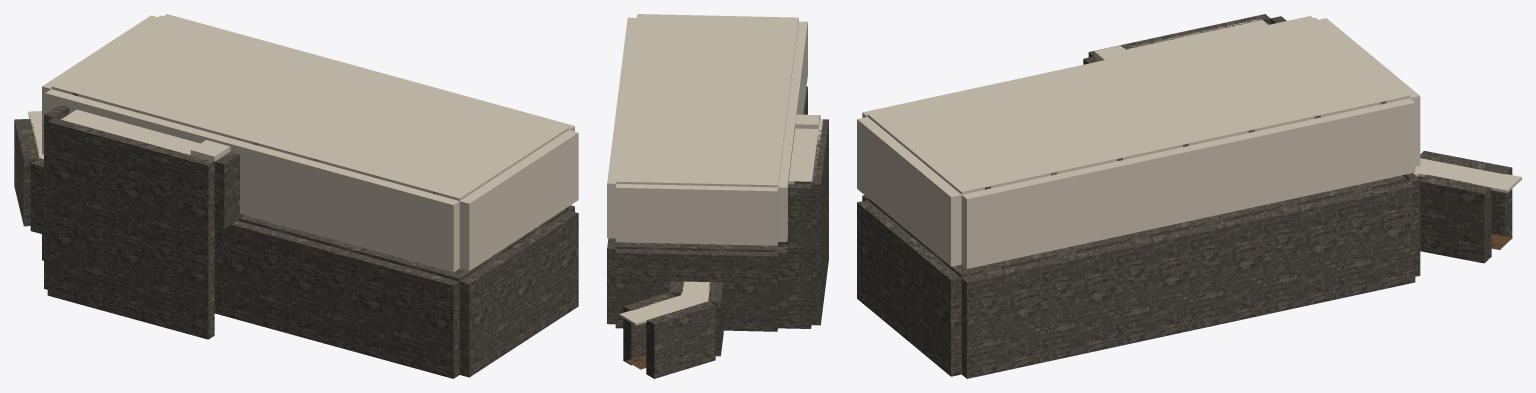
The model's file is palatsi.glb.
3 views of the same model, side by side, from view 1: azimuth 30°, elevation 25°; view 2: azimuth 150°, elevation 25°; view 3: azimuth 270°, elevation 25° (orthographic). The views are drawn at different scales.
Parts seen in each view (by area): view 1: palace_architecture; view 2: palace_architecture; view 3: palace_architecture.
Boxes of the visible parts, box(x1,y1,x2,y2) form: palace_architecture: box(14, 14, 578, 378); palace_architecture: box(607, 14, 828, 378); palace_architecture: box(857, 14, 1521, 378).
Size of the model in its own units: 15.46 by 7.1 by 22.47.
5 materials, 3 textured.
